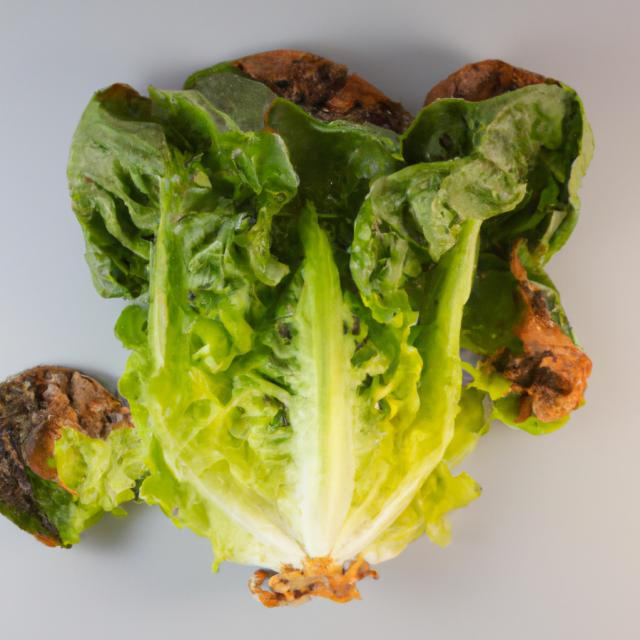-K: (0, 34, 606, 616)
